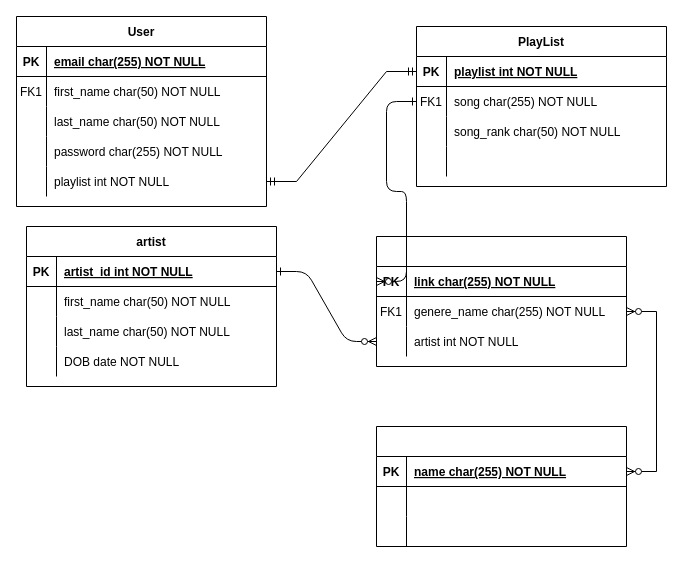
Some shapes in this 683 by 563 pixel diagram are drawn without their labels. The box of each missing label's shape, as (x1, y1, x2, y2) in pixels:
Genre: (376, 426, 626, 546)
Songs: (376, 236, 626, 366)
